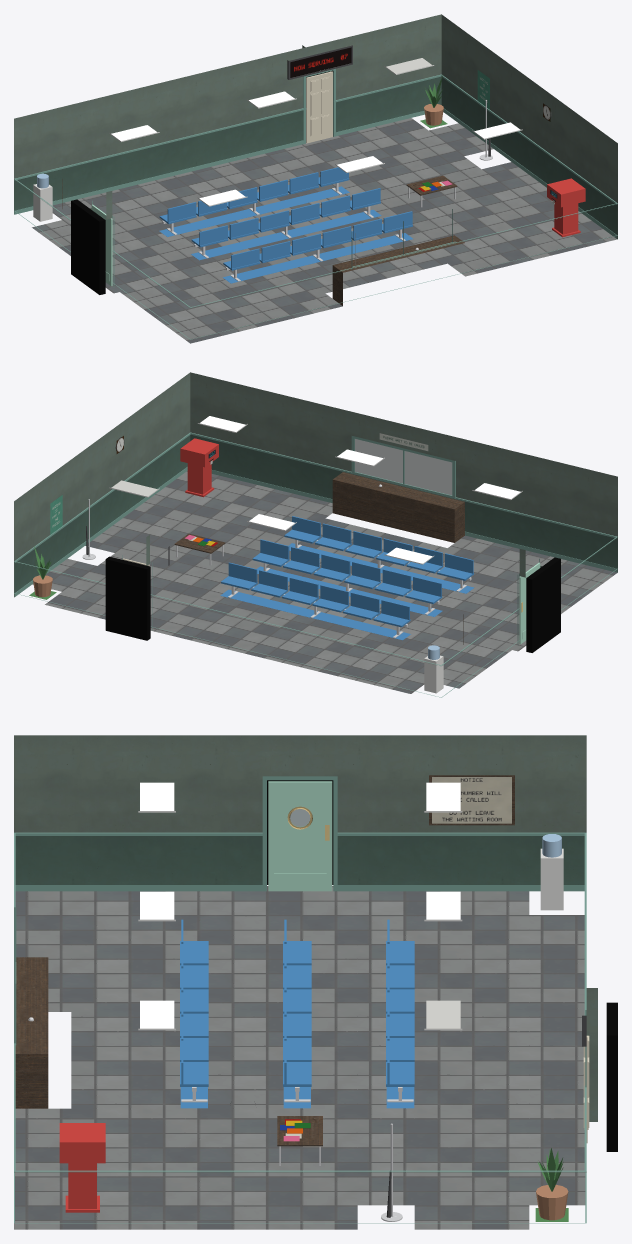
Rendered from rdwe_waiting_room.glb.
3 renders of one model, top to bottom at view 1: azimuth 30°, elevation 25°; view 2: azimuth 150°, elevation 25°; view 3: azimuth 270°, elevation 25°, orthographic. The views are drawn at different scales.
Visible parts, largest first — view 1: Vinyl_Grey, Plaster_Mint, Paint_Mint_Dark, Plastic_Blue, Trim_Mint, Void_Black, Wood_Oak, Lamp_Emit, DoorLeaf_number, Paint_Red, Screen_Number, Chrome (+5 smaller); view 2: Vinyl_Grey, Plaster_Mint, Plastic_Blue, Paint_Mint_Dark, Wood_Oak, Void_Black, Trim_Mint, Frosted, Lamp_Emit, Paint_Red, Signs_Wait, Chrome (+3 smaller); view 3: Vinyl_Grey, Plaster_Mint, Paint_Mint_Dark, Plastic_Blue, Trim_Mint, DoorLeaf_three, Wood_Oak, Lamp_Emit, Paint_Red, Signs_Wait, Void_Black, Plastic_White (+4 smaller).
Part boxes in pixels (x1,y1,x2,y2): Vinyl_Grey: (32, 118, 616, 343); Plaster_Mint: (14, 14, 617, 238); Paint_Mint_Dark: (14, 76, 617, 307); Plastic_Blue: (159, 167, 412, 283); Trim_Mint: (14, 68, 617, 339); Void_Black: (71, 70, 333, 294); Wood_Oak: (62, 175, 464, 305); Lamp_Emit: (111, 91, 520, 205); DoorLeaf_number: (306, 71, 332, 143); Paint_Red: (547, 178, 585, 237); Screen_Number: (290, 47, 351, 77); Chrome: (162, 100, 492, 281); Vinyl_Grey: (32, 471, 617, 693); Plaster_Mint: (14, 372, 617, 596); Plastic_Blue: (220, 516, 474, 640); Paint_Mint_Dark: (14, 434, 617, 665); Wood_Oak: (174, 472, 464, 644); Void_Black: (105, 556, 560, 652); Trim_Mint: (14, 432, 617, 697); Frosted: (355, 439, 452, 495); Lamp_Emit: (200, 416, 520, 563); Paint_Red: (180, 438, 218, 497); Signs_Wait: (50, 433, 428, 534); Chrome: (82, 484, 471, 638); Vinyl_Grey: (14, 886, 585, 1229); Plaster_Mint: (14, 735, 597, 1121); Paint_Mint_Dark: (14, 836, 586, 1172); Plastic_Blue: (180, 919, 414, 1108); Trim_Mint: (14, 776, 586, 1223); DoorLeaf_three: (268, 781, 332, 891); Wood_Oak: (15, 775, 514, 1146); Lamp_Emit: (140, 782, 460, 1028); Paint_Red: (59, 1123, 105, 1212); Signs_Wait: (432, 777, 511, 823); Void_Black: (267, 780, 617, 1151); Plastic_White: (540, 848, 563, 910).
Size of the model in its own units: 14.55 by 3.05 by 10.55.
28 materials, 10 textured.
